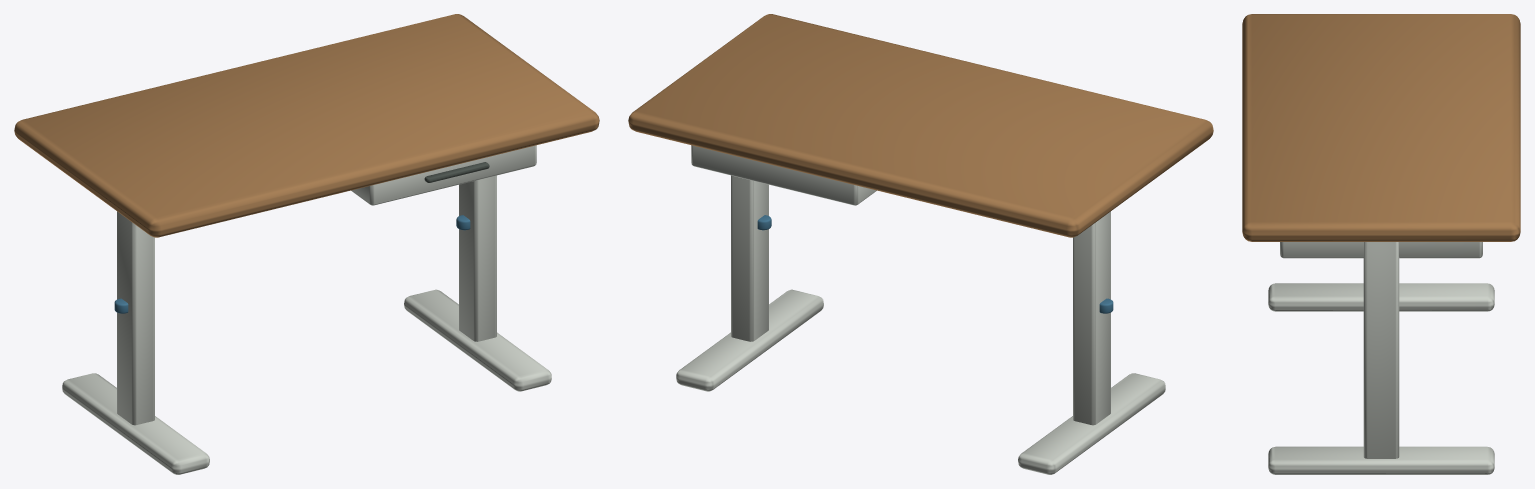
Rendered from urban-child-desk-v1.glb.
3 renders of one model, left to right at view 1: azimuth 30°, elevation 25°; view 2: azimuth 150°, elevation 25°; view 3: azimuth 270°, elevation 25°, orthographic. The views are drawn at different scales.
Visible parts, largest first — view 1: Soft oak desktop, Telescopic leg, Telescopic leg.001, T foot.001, T foot, Shallow drawer; view 2: Soft oak desktop, Telescopic leg, Telescopic leg.001, T foot.001, T foot, Shallow drawer; view 3: Soft oak desktop, Telescopic leg.001, T foot.001, T foot, Shallow drawer.
Part boxes in pixels (box(x1,y1,x2,y2)): Soft oak desktop: box(14, 14, 599, 237); Telescopic leg: box(117, 211, 154, 425); Telescopic leg.001: box(459, 175, 496, 341); T foot.001: box(404, 289, 551, 391); T foot: box(62, 373, 209, 474); Shallow drawer: box(351, 145, 536, 205); Soft oak desktop: box(628, 14, 1213, 237); Telescopic leg: box(1073, 211, 1110, 425); Telescopic leg.001: box(731, 175, 768, 341); T foot.001: box(676, 289, 823, 391); T foot: box(1018, 373, 1165, 474); Shallow drawer: box(691, 145, 876, 205); Soft oak desktop: box(1242, 14, 1520, 241); Telescopic leg.001: box(1363, 242, 1399, 458); T foot.001: box(1268, 446, 1494, 474); T foot: box(1268, 283, 1494, 311); Shallow drawer: box(1280, 242, 1482, 258).
Bounding box in the file's own units: 1.08 × 0.6325 × 0.59.
4 materials, 4 textured.
